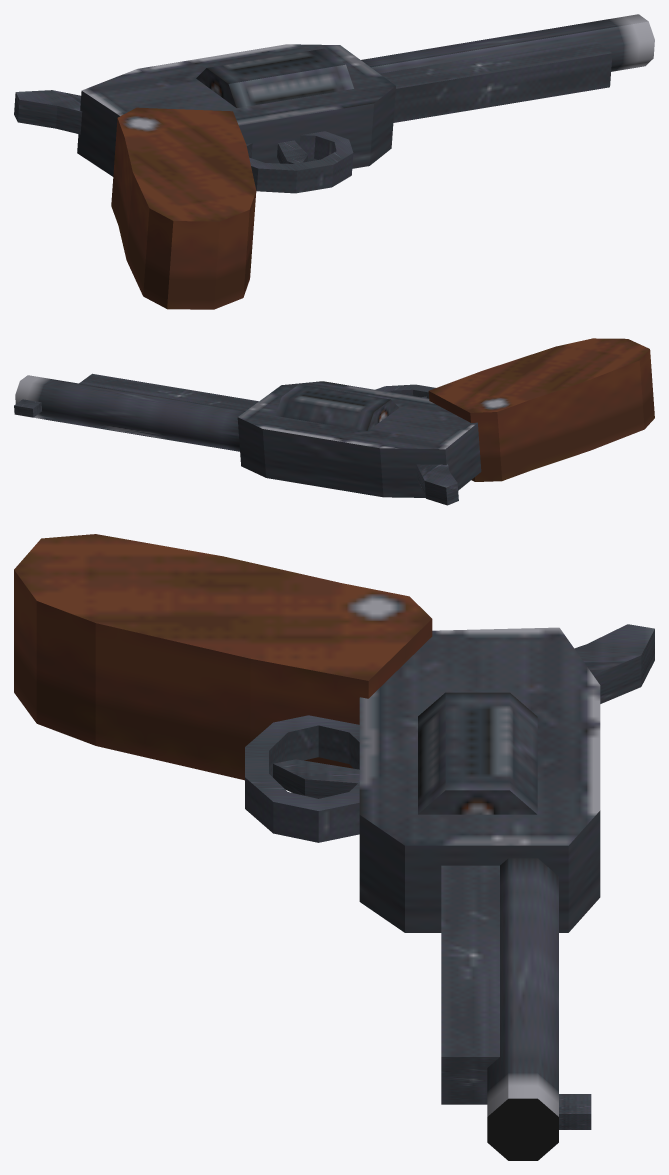
File: revolver.obj
The picture shows the model from 3 angles, top to bottom: view 1: azimuth 30°, elevation 25°; view 2: azimuth 150°, elevation 25°; view 3: azimuth 270°, elevation 25°; orthographic projection. The views are drawn at different scales.
Parts seen in each view (by area): view 1: revolver; view 2: revolver; view 3: revolver.
Part boxes in pixels (x1,y1,x2,y2): revolver: (14, 14, 654, 309); revolver: (14, 338, 654, 505); revolver: (14, 534, 654, 1160).
Bounding box in the file's own units: 0.2411 × 0.0414 × 0.141.
1 material, 1 textured.
